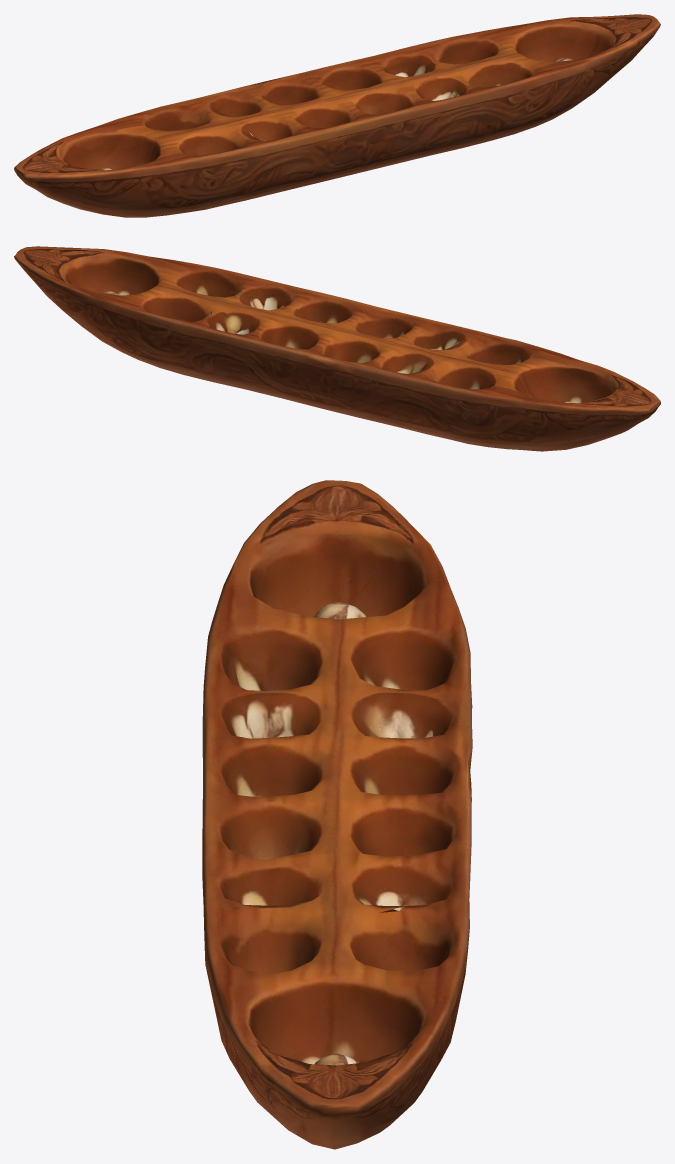
The model's file is sungka.glb.
3 renders of one model, top to bottom at view 1: azimuth 30°, elevation 25°; view 2: azimuth 150°, elevation 25°; view 3: azimuth 270°, elevation 25°, orthographic. The views are drawn at different scales.
Parts seen in each view (by area): view 1: geometry_0; view 2: geometry_0; view 3: geometry_0.
Part boxes in pixels (bbox=[...]): geometry_0: bbox=[14, 14, 660, 217]; geometry_0: bbox=[14, 246, 660, 451]; geometry_0: bbox=[202, 480, 472, 1149].
Bounding box in the file's own units: 1 × 0.1189 × 0.1845.
Materials: 1 (1 with a texture image).
